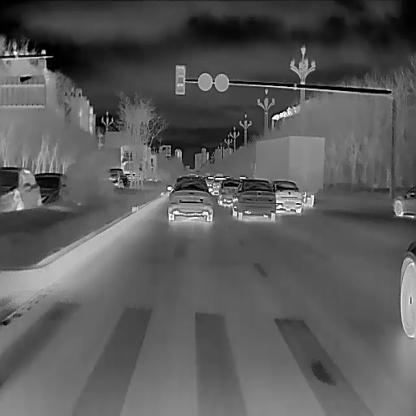car: (165, 179, 211, 221), (232, 179, 275, 220), (0, 167, 40, 211), (32, 173, 72, 204), (273, 180, 302, 214), (394, 185, 415, 218), (218, 178, 239, 206), (212, 176, 232, 196)
truck: (251, 134, 324, 206), (119, 144, 152, 182)
